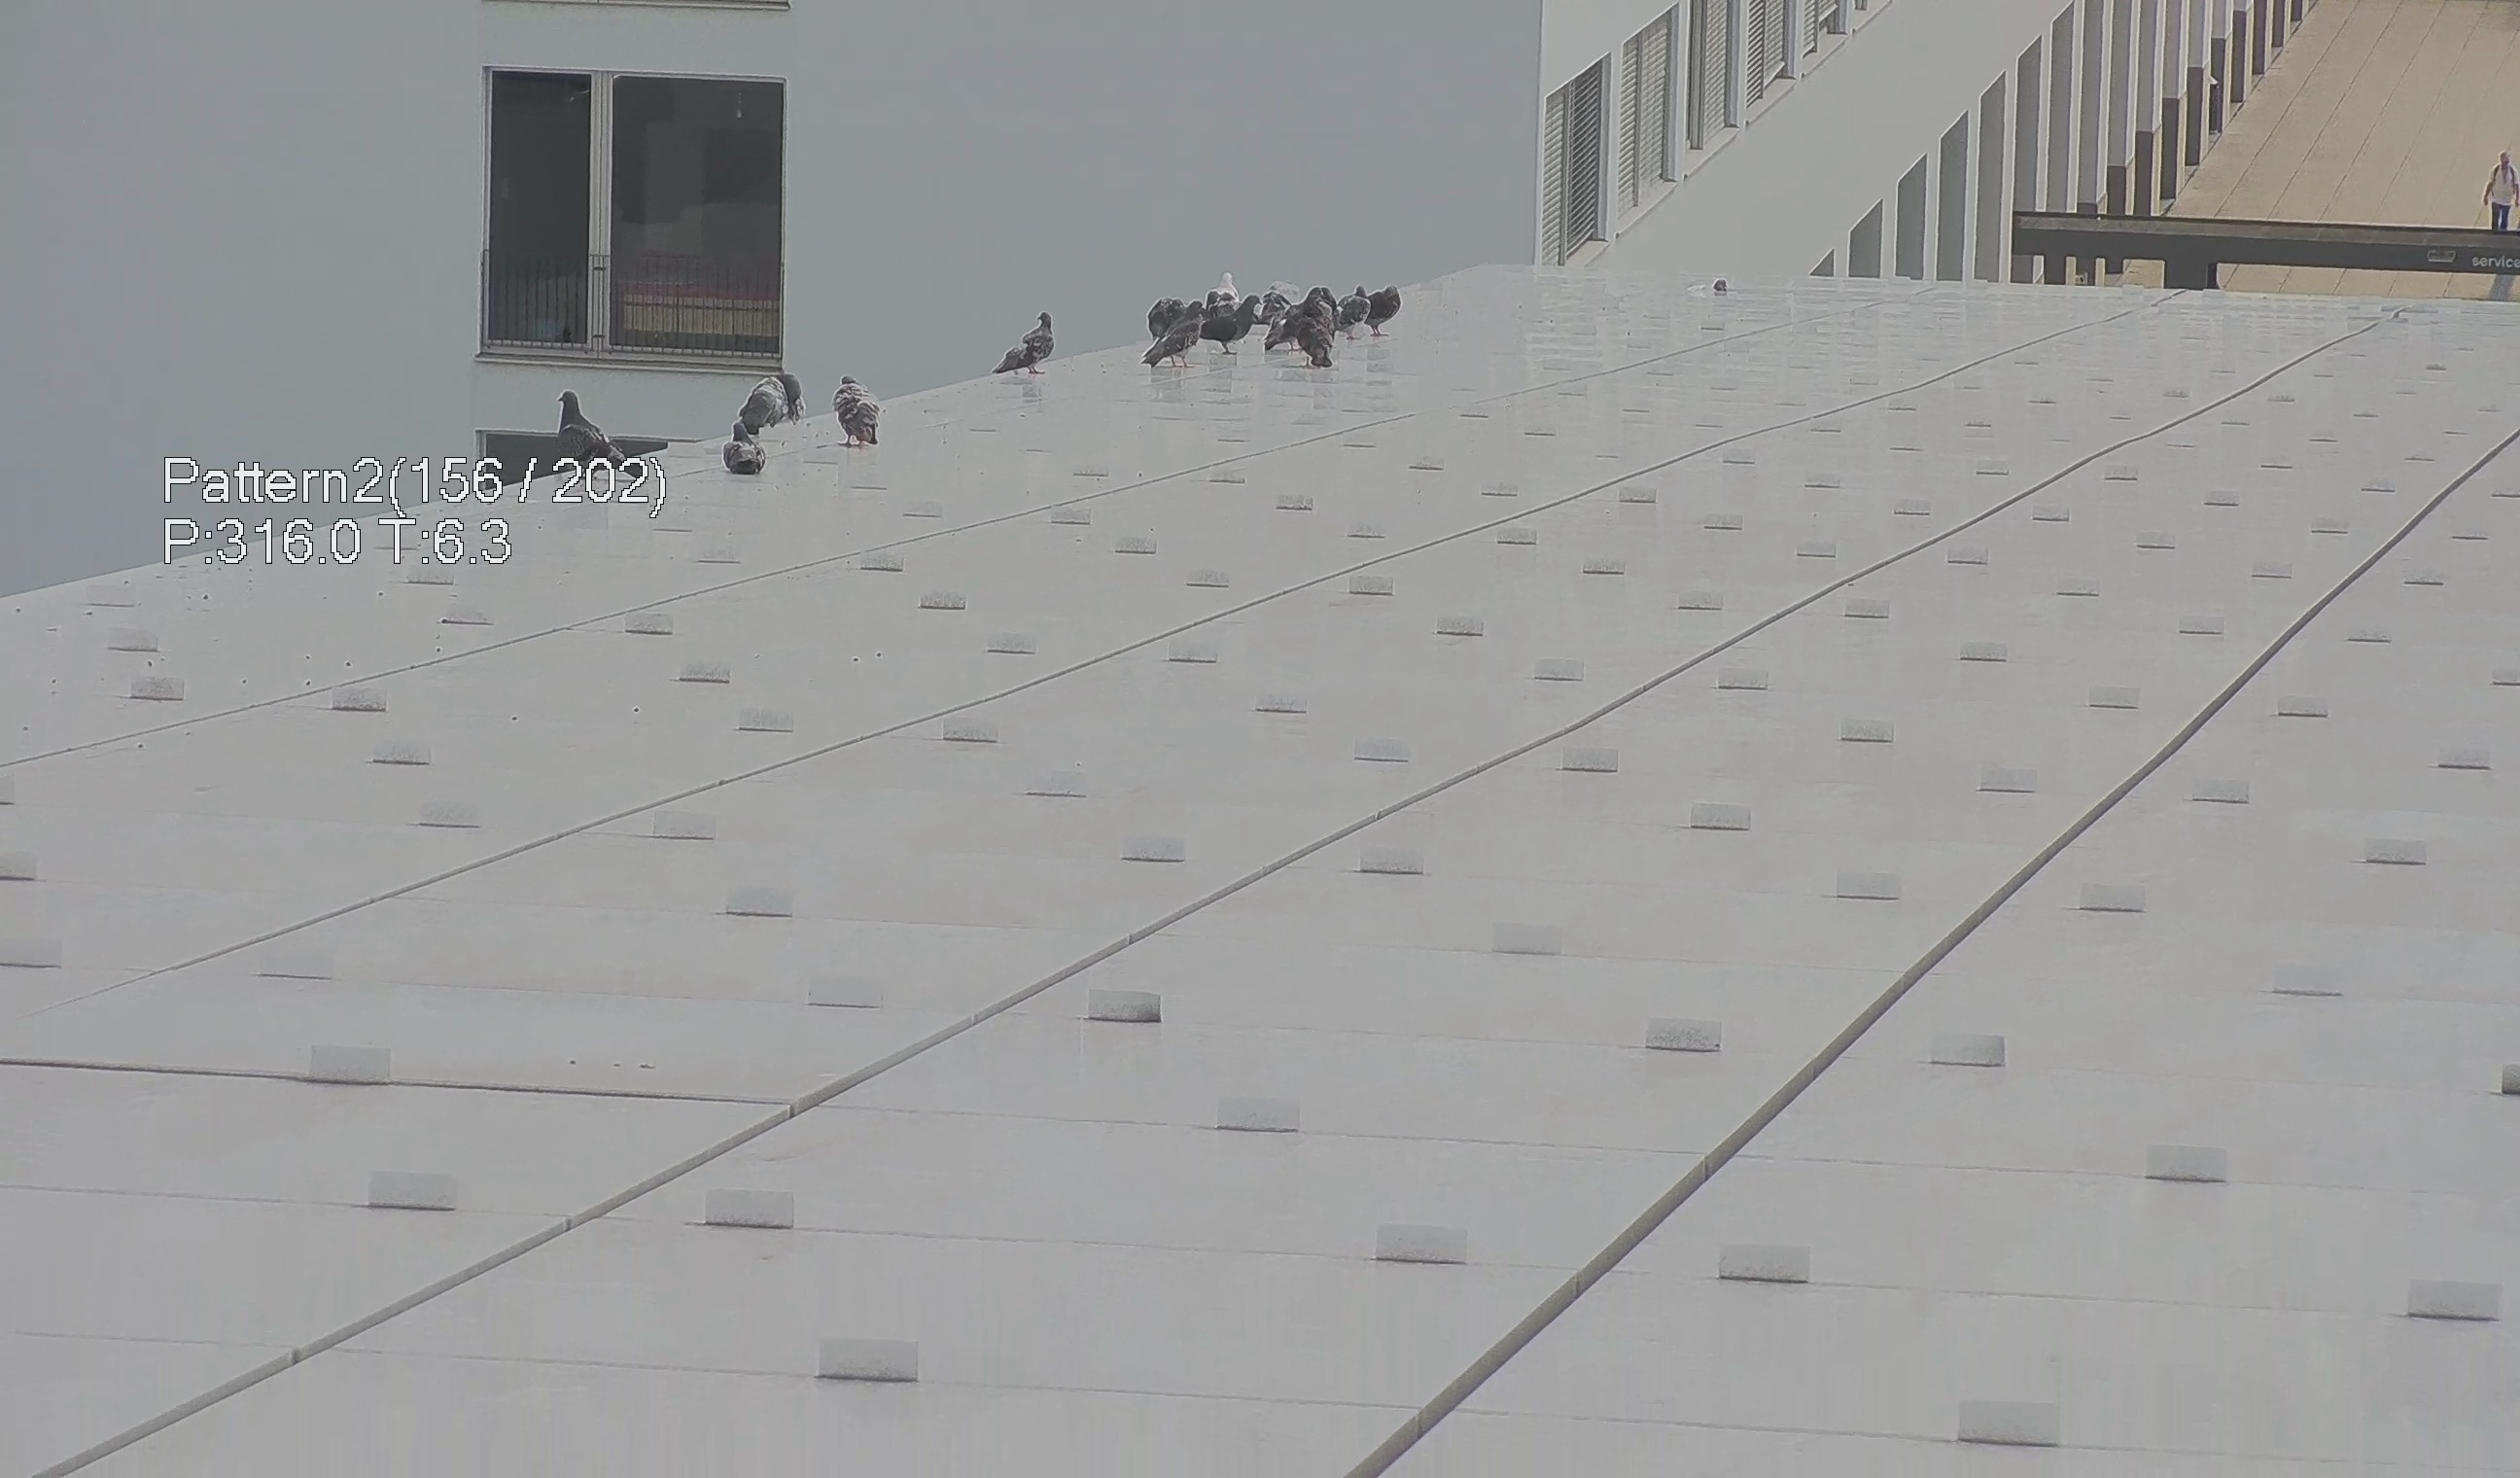Pigeon: (549, 378, 651, 486), (825, 364, 886, 457), (737, 369, 811, 435), (990, 306, 1055, 380), (1145, 304, 1205, 368), (1203, 292, 1263, 352), (721, 421, 776, 482), (1289, 313, 1333, 377), (1333, 282, 1372, 340), (1366, 280, 1405, 336), (1259, 280, 1301, 327), (1298, 283, 1345, 315), (1210, 271, 1243, 303)
